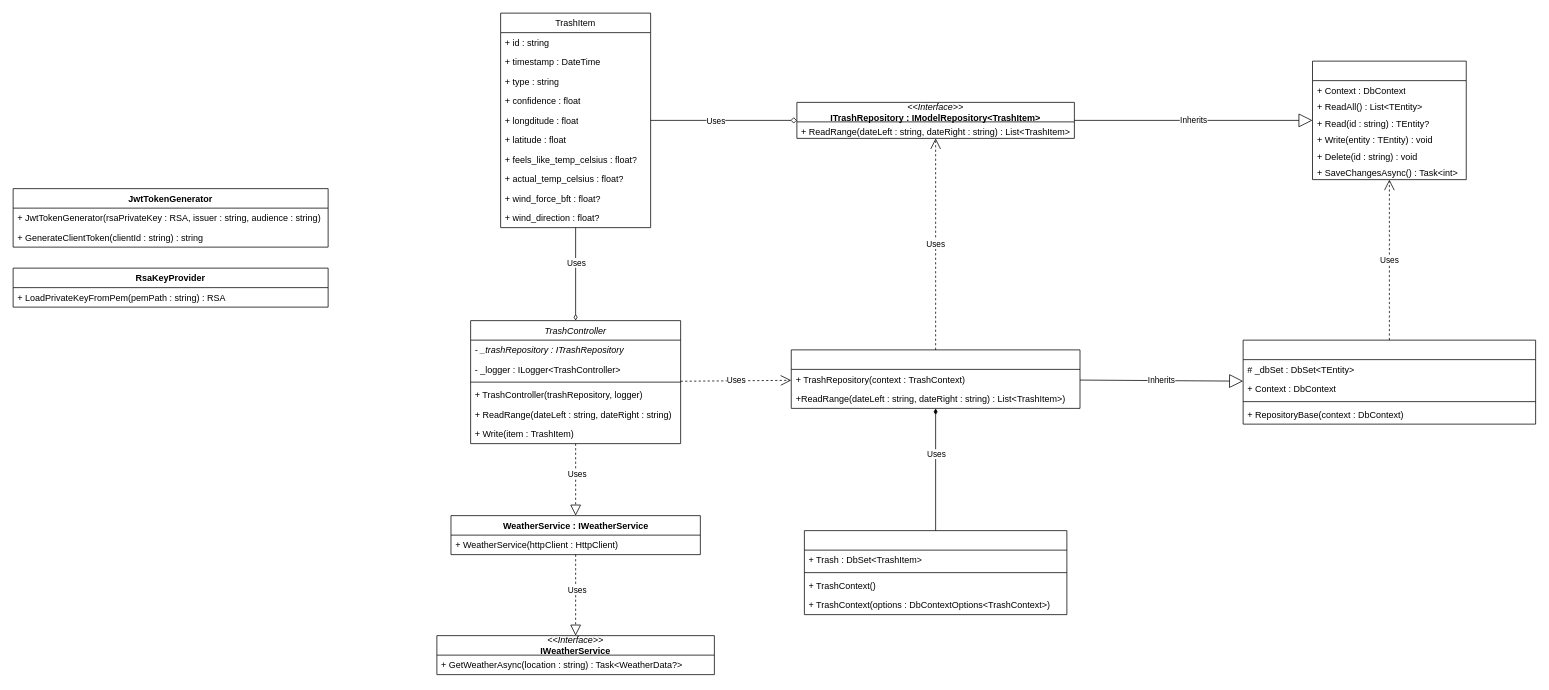
Image size: 1549x690. Some labels were removed from this diagram. The box of each missing label's shape, as (x1, y1, x2, y2) in pixels:
<<Interface>> IModelRepository<TEntity>: (1312, 60, 1466, 180)
RepositoryBase<TEntity> : IModelRepository<TEntity>: (1242, 339, 1536, 424)
TrashContext : DBContext: (804, 530, 1067, 615)
TrashRepository : RepositoryBase<TrashItem>: (790, 349, 1080, 408)
